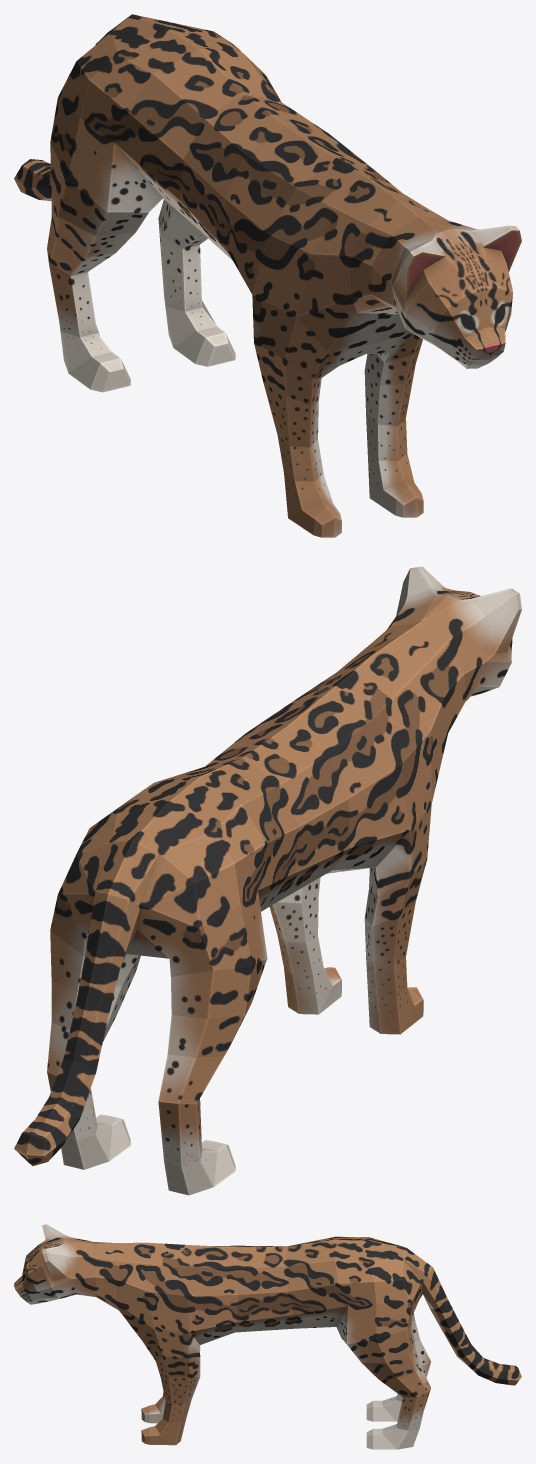
File: 61daa34f-ff12-4843-9417-e65c482cd81a.glb
The picture shows the model from 3 angles, top to bottom: view 1: azimuth 30°, elevation 25°; view 2: azimuth 150°, elevation 25°; view 3: azimuth 270°, elevation 25°; orthographic projection. The views are drawn at different scales.
Visible parts, largest first — view 1: Ocelot_mesh; view 2: Ocelot_mesh; view 3: Ocelot_mesh.
Part boxes in pixels (left/top/right/bottom): Ocelot_mesh: left=14, top=14, right=521, bottom=537; Ocelot_mesh: left=14, top=566, right=521, bottom=1195; Ocelot_mesh: left=14, top=1224, right=521, bottom=1449.
Bounding box in the file's own units: 2.92 × 5.31 × 12.63.
Materials: 1 (1 with a texture image).
